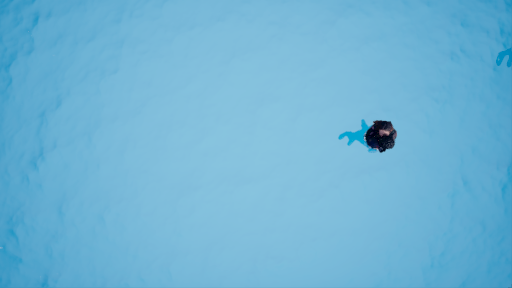person: (341, 116, 405, 160)
